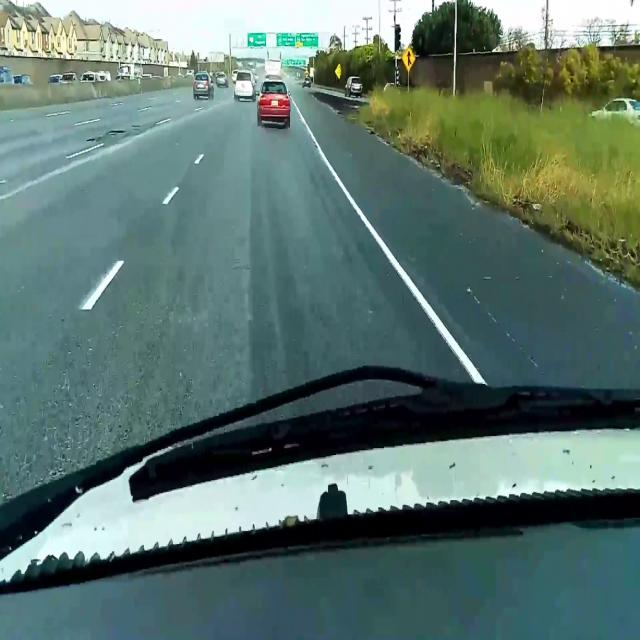Pothole: (107, 129, 126, 136), (86, 138, 96, 142)
